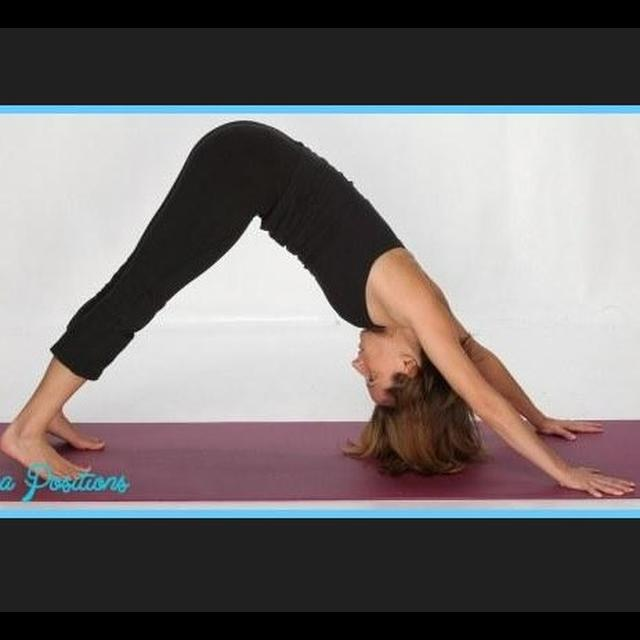Downward-Facing_Dog: (2, 124, 639, 496)
